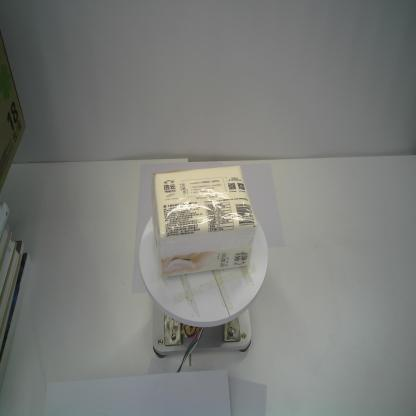Tissue: (150, 165, 260, 281)
